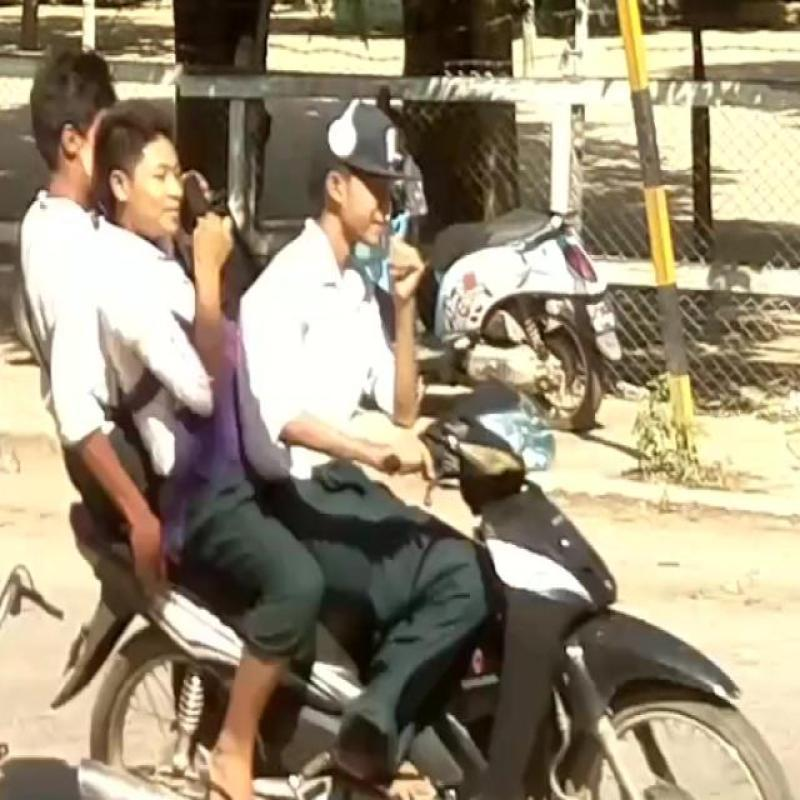nohelmet: (278, 87, 431, 248), (19, 32, 128, 203), (89, 108, 211, 245)
